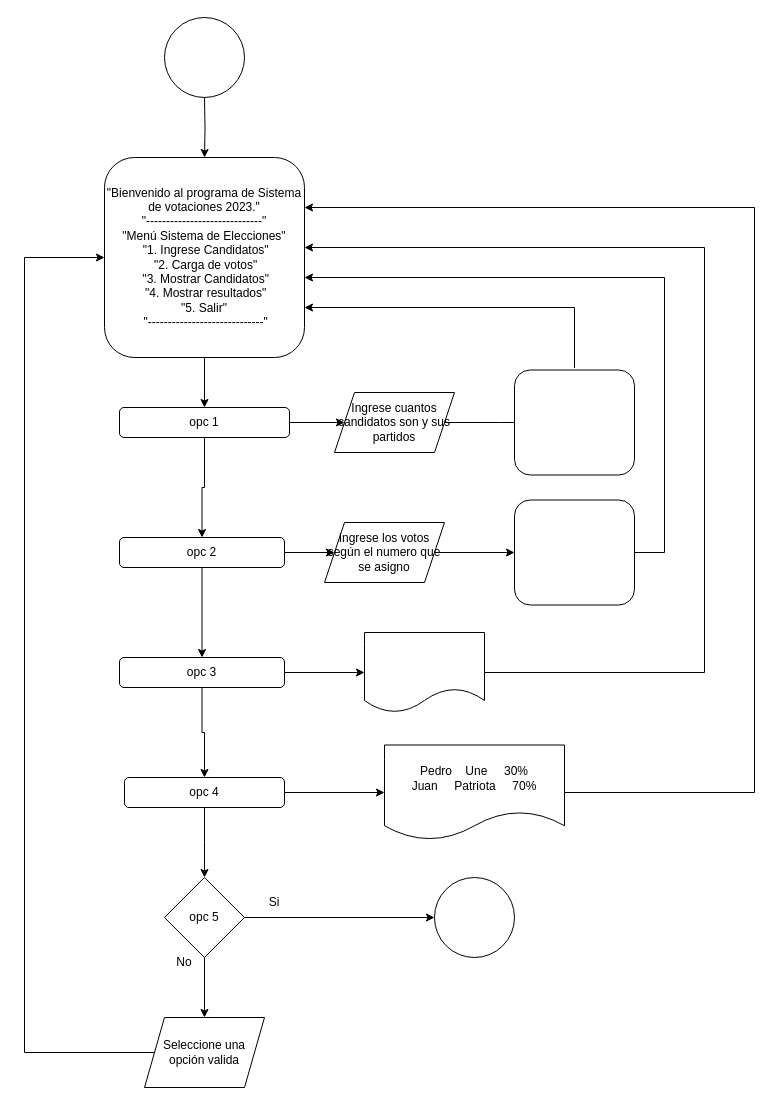
Some shapes in this 780 by 1105 pixel diagram are drawn without their labels. Here are the shapes that lost their labels. From the top down, the centre of each, then its label:
At (204,57): "inicio".
At (574,422): "Nombre:_________ Partido:_________".
At (574,552): "Por quien desea votar (1) Pedro (2) Juan (3) Mario".
At (424,672): "Pedro Une Juan Patriota".
At (474,917): "Fin".
